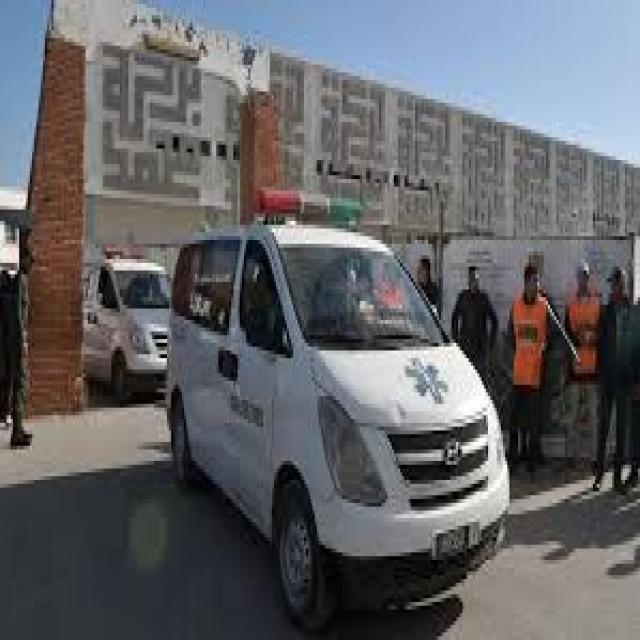ambulance: (168, 182, 510, 606)
